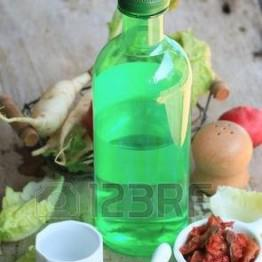soju: (90, 1, 190, 255)
